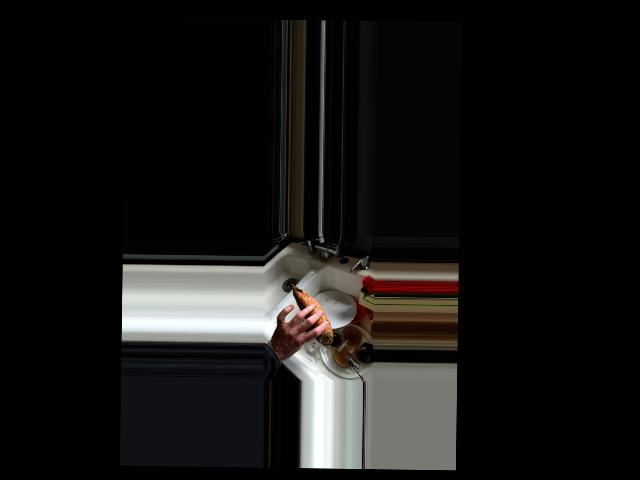sweet_potato: (289, 282, 334, 345)
